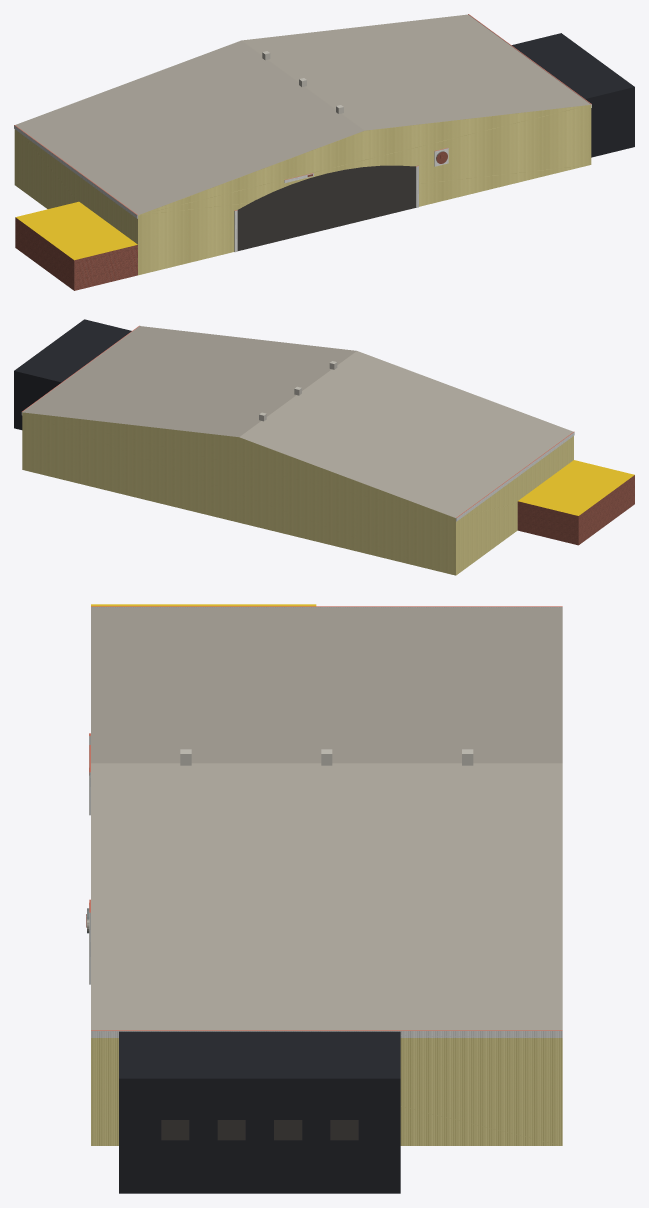
File: cyxd_hangar4.gltf
3 renders of one model, top to bottom at view 1: azimuth 30°, elevation 25°; view 2: azimuth 150°, elevation 25°; view 3: azimuth 270°, elevation 25°, orthographic. The views are drawn at different scales.
Parts seen in each view (by area): view 1: cyxd_hangar4; view 2: cyxd_hangar4; view 3: cyxd_hangar4.
Boxes of the visible parts, box(x1,y1,x2,y2) form: cyxd_hangar4: box(14, 14, 634, 290); cyxd_hangar4: box(14, 319, 634, 575); cyxd_hangar4: box(86, 604, 562, 1193).
Bounding box in the file's own units: 89.16 × 14.3 × 33.83.
